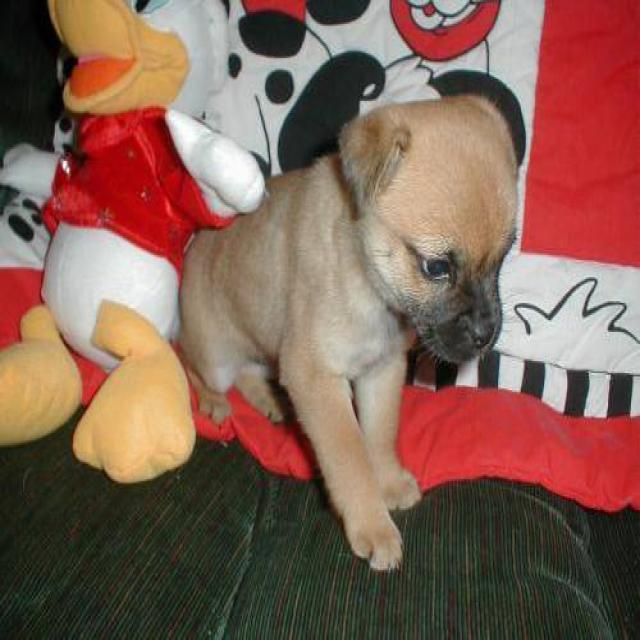dog: (176, 84, 524, 573)
